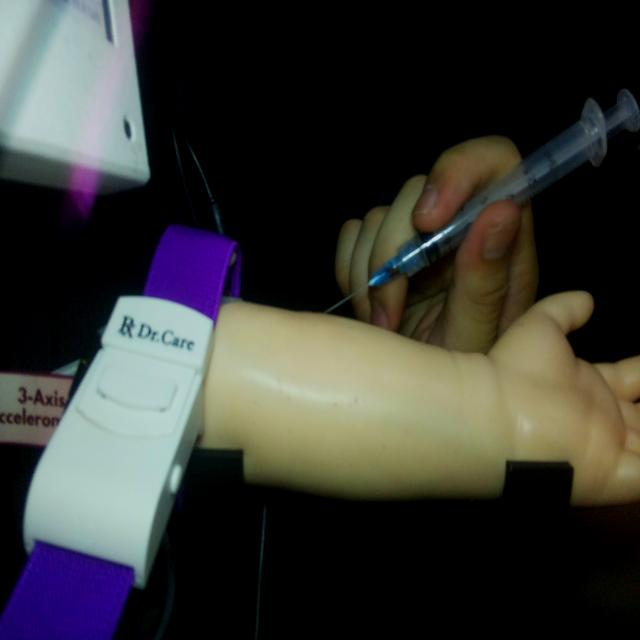23 degrees: (320, 84, 638, 317)
